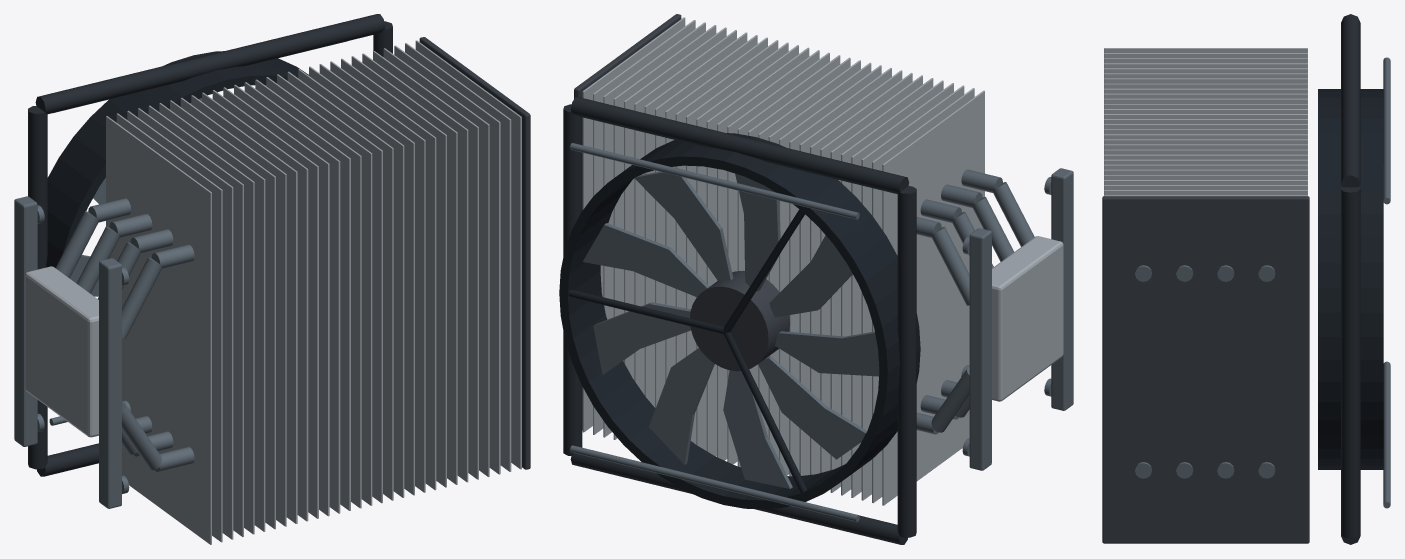
File: cooler.glb
The picture shows the model from 3 angles, left to right: view 1: azimuth 30°, elevation 25°; view 2: azimuth 150°, elevation 25°; view 3: azimuth 270°, elevation 25°; orthographic projection. The views are drawn at different scales.
Parts seen in each view (by area): view 1: Cooler_Metal_Aluminum, Cooler_Metal_Dark_Steel, Cooler_Paint_Charcoal, Cooler_Plastic_Black, Cooler_Paint_Graphite; view 2: Cooler_Metal_Aluminum, Cooler_Plastic_Black, Cooler_Fan_Rotor.001, Cooler_Metal_Dark_Steel, Cooler_Paint_Charcoal, Cooler_Paint_Graphite; view 3: Cooler_Paint_Graphite, Cooler_Metal_Aluminum, Cooler_Plastic_Black, Cooler_Paint_Charcoal, Cooler_Metal_Dark_Steel.
Boxes of the visible parts, bbox=[...] form: Cooler_Metal_Aluminum: bbox=[25, 40, 521, 544]; Cooler_Metal_Dark_Steel: bbox=[14, 41, 346, 508]; Cooler_Paint_Charcoal: bbox=[28, 14, 392, 476]; Cooler_Plastic_Black: bbox=[46, 51, 308, 267]; Cooler_Paint_Graphite: bbox=[419, 37, 530, 469]; Cooler_Metal_Aluminum: bbox=[582, 17, 1063, 505]; Cooler_Plastic_Black: bbox=[559, 133, 920, 509]; Cooler_Fan_Rotor.001: bbox=[582, 168, 879, 488]; Cooler_Metal_Dark_Steel: bbox=[570, 143, 1073, 521]; Cooler_Paint_Charcoal: bbox=[563, 97, 916, 544]; Cooler_Paint_Graphite: bbox=[574, 14, 790, 429]; Cooler_Paint_Graphite: bbox=[1102, 196, 1309, 543]; Cooler_Metal_Aluminum: bbox=[1104, 48, 1307, 196]; Cooler_Plastic_Black: bbox=[1318, 89, 1383, 469]; Cooler_Paint_Charcoal: bbox=[1341, 14, 1360, 544]; Cooler_Metal_Dark_Steel: bbox=[1135, 57, 1390, 508].
Size of the model in its own units: 0.145 by 0.124 by 0.0876.
